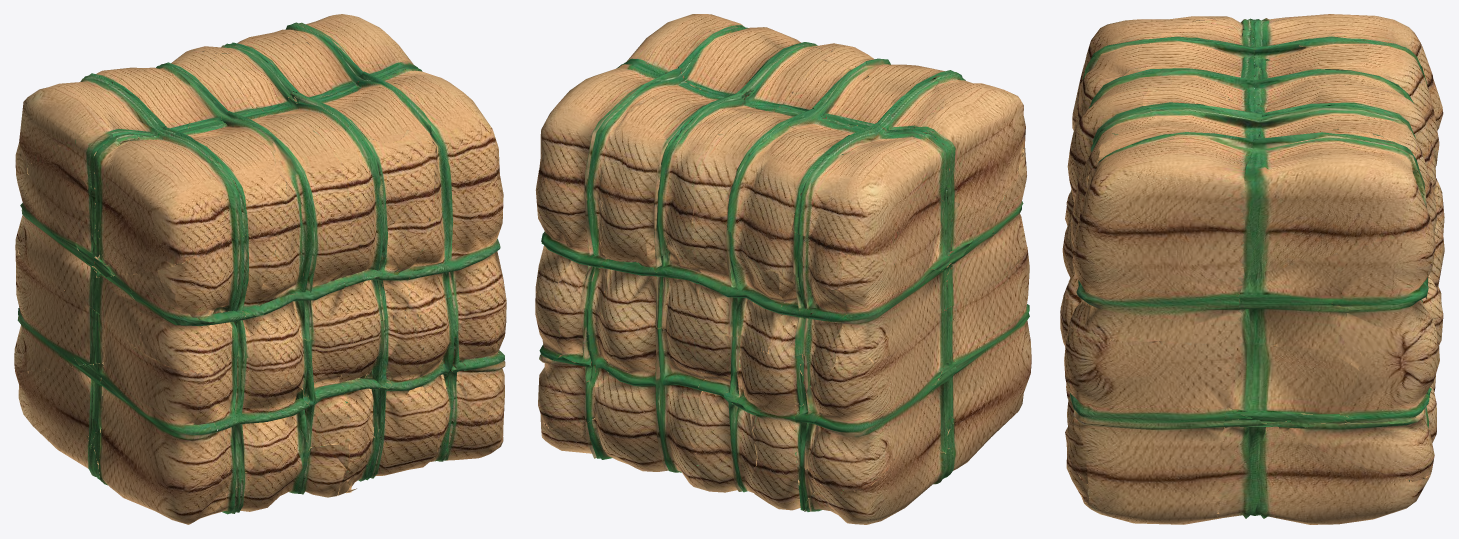
Rendered from cargo-net-bundle.glb.
3 views of the same model, side by side, from view 1: azimuth 30°, elevation 25°; view 2: azimuth 150°, elevation 25°; view 3: azimuth 270°, elevation 25° (orthographic). The views are drawn at different scales.
Visible parts, largest first — view 1: cargo-net-bundle; view 2: cargo-net-bundle; view 3: cargo-net-bundle.
Boxes of the visible parts, box(x1,y1,x2,y2) form: cargo-net-bundle: box(14, 14, 506, 524); cargo-net-bundle: box(535, 14, 1031, 524); cargo-net-bundle: box(1060, 14, 1444, 524).
Bounding box in the file's own units: 3.2 × 3.2 × 3.
1 material, 1 textured.
